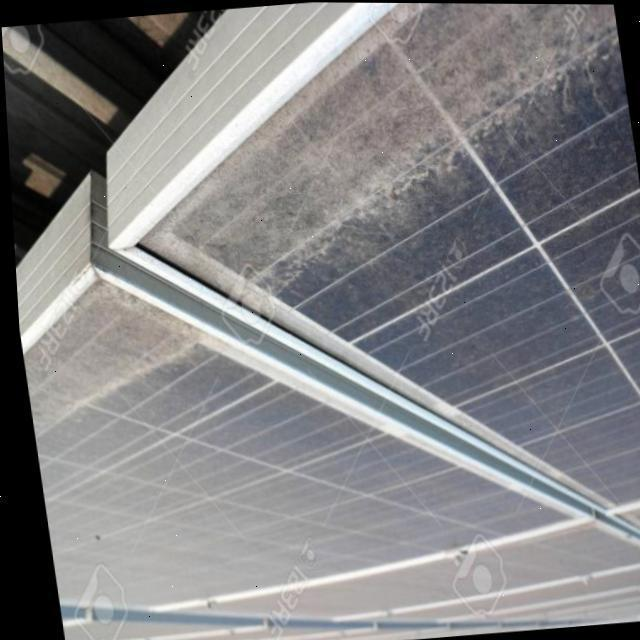Anomaly Solar Panel: (128, 2, 640, 532), (17, 268, 640, 619)
Surface Contaminant: (132, 2, 622, 320), (31, 346, 573, 609), (163, 520, 640, 625), (18, 279, 209, 448)
